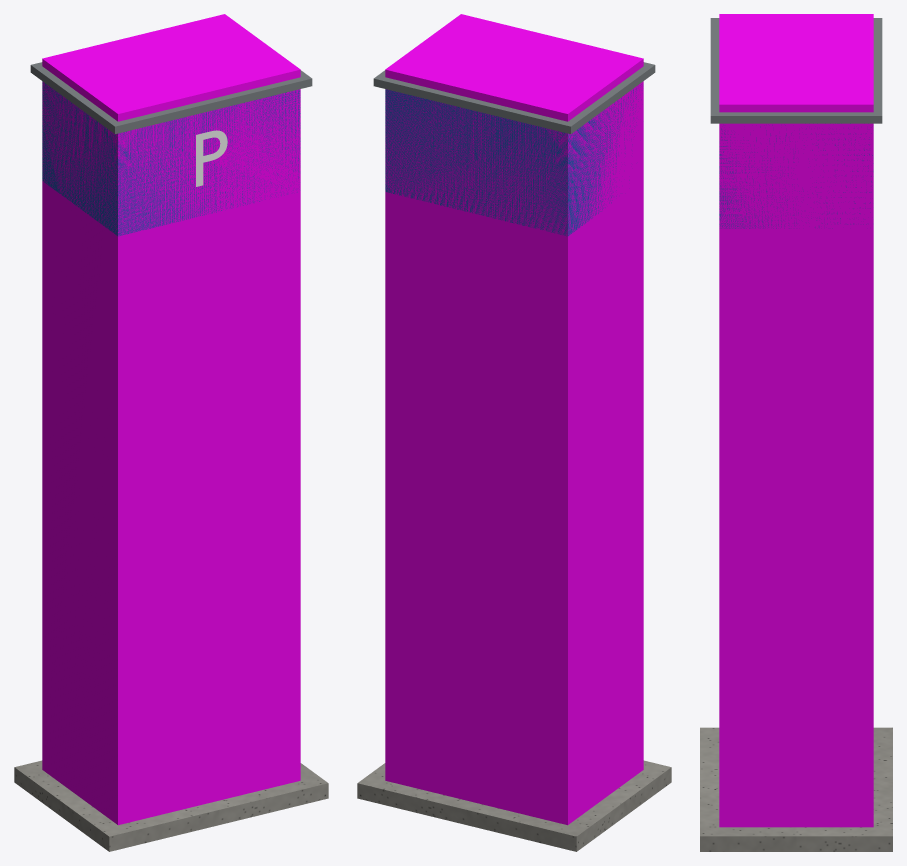
The model's file is EN_Park_PayStation.fbx.
The picture shows the model from 3 angles, left to right: view 1: azimuth 30°, elevation 25°; view 2: azimuth 150°, elevation 25°; view 3: azimuth 270°, elevation 25°; orthographic projection.
Visible parts, largest first — view 1: COL_Body, EN_Park_PayStation_Mesh; view 2: COL_Body, EN_Park_PayStation_Mesh; view 3: COL_Body, EN_Park_PayStation_Mesh.
Boxes of the visible parts, x1,y1,x2,y2 form: COL_Body: (42,14,300,825); EN_Park_PayStation_Mesh: (14,62,328,851); COL_Body: (385,14,643,825); EN_Park_PayStation_Mesh: (357,62,671,851); COL_Body: (719,14,873,827); EN_Park_PayStation_Mesh: (700,18,892,851).
Size of the model in its own units: 0.6 by 1.9 by 0.45.
